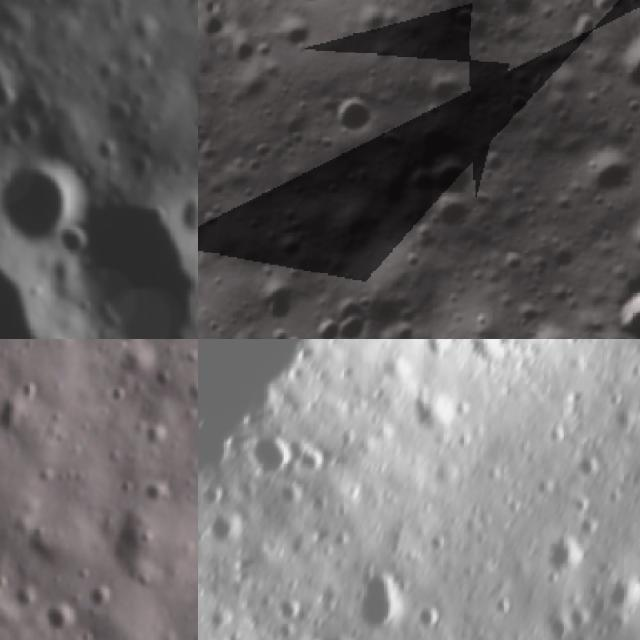crater: (394, 131, 486, 220), (0, 158, 78, 245), (562, 133, 640, 219), (585, 29, 640, 141), (377, 302, 542, 339), (314, 76, 388, 150), (353, 557, 414, 640), (300, 287, 389, 339), (539, 529, 594, 587), (247, 431, 300, 487), (406, 390, 461, 442), (0, 44, 29, 133), (202, 506, 250, 552), (276, 0, 373, 20), (49, 222, 92, 262), (603, 576, 640, 622), (101, 339, 160, 367), (518, 315, 586, 339), (35, 604, 80, 640), (99, 94, 140, 131), (295, 445, 337, 480), (274, 478, 313, 515), (415, 600, 449, 640), (278, 594, 310, 631), (182, 189, 198, 240)
